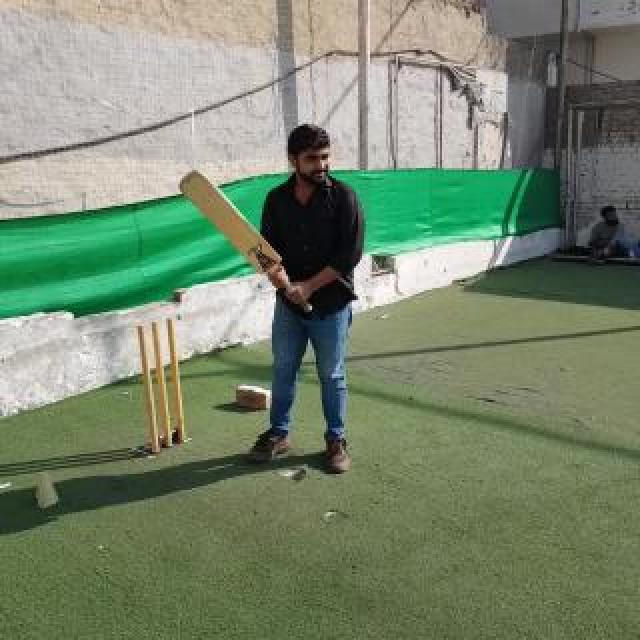bat: (180, 168, 312, 312)
